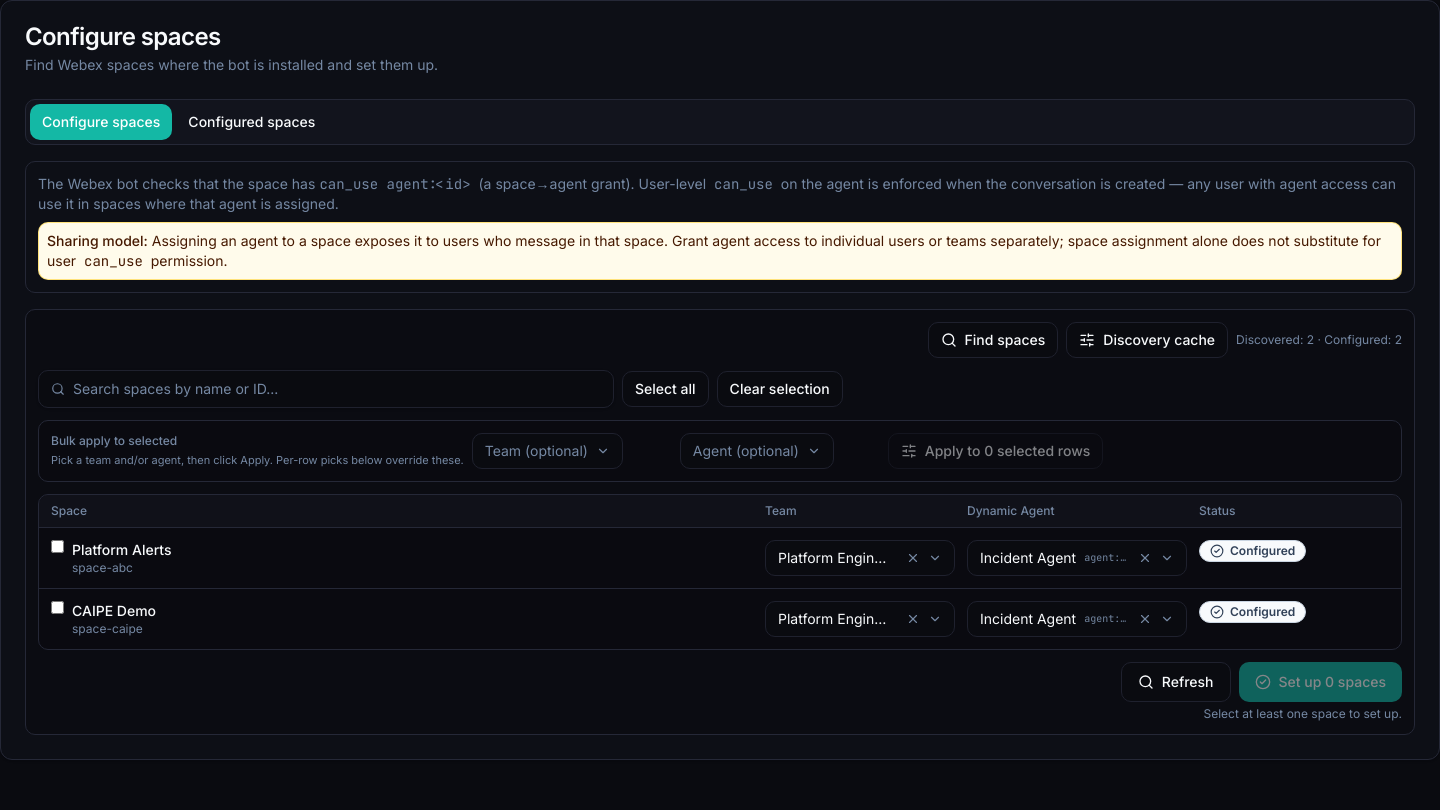
Scenario: filters configured Webex spaces locally before live discovery runs
Expected: the text "Platform Alerts" is shown, [72,541,172,558]
Expected: the text "CAIPE Demo" is shown, [72,602,156,619]
Type "CAIPE" into the search field labelled "Search spaces" at (337, 389), box [73,379,601,399]
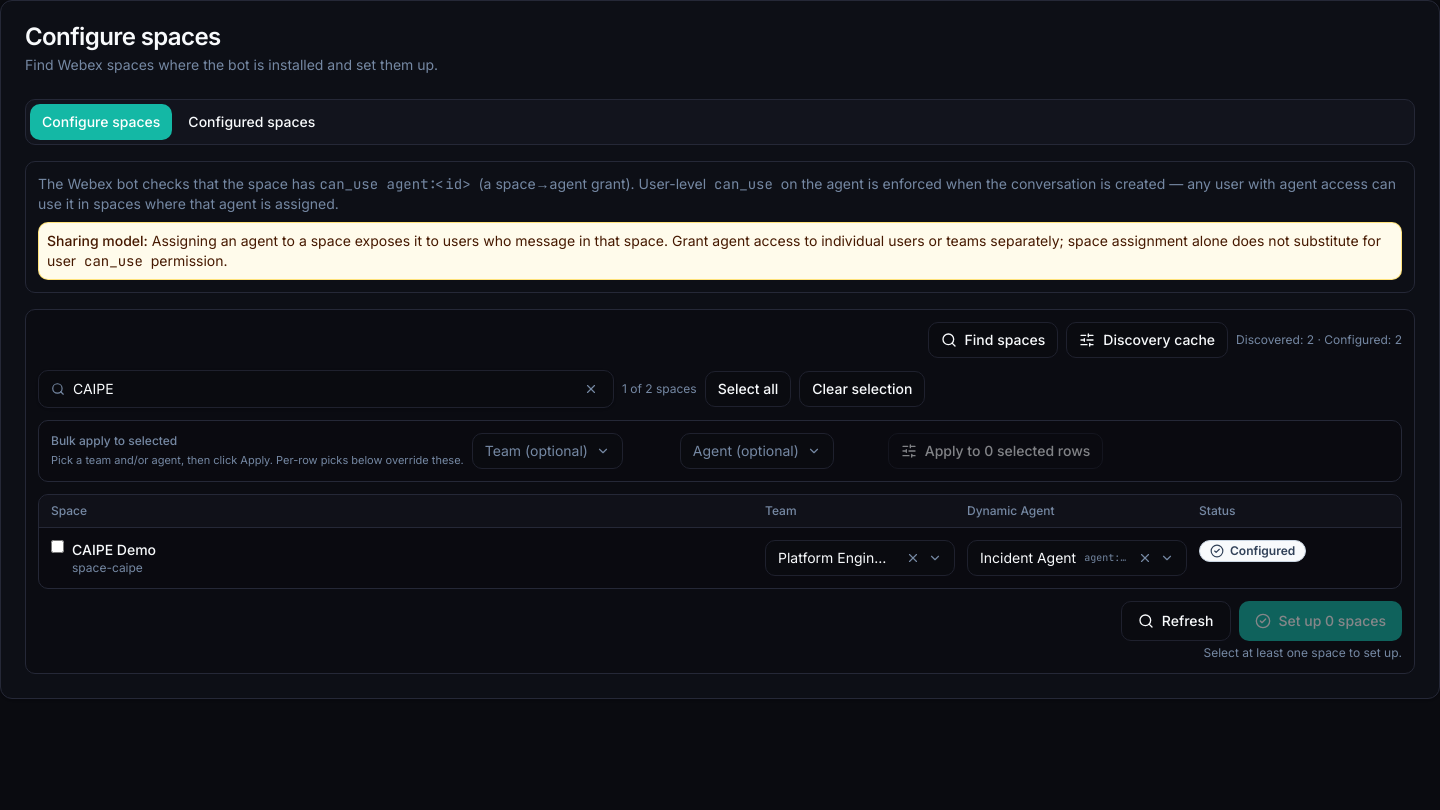
Expected: the text "CAIPE Demo" is shown, [72,541,156,558]
Expected: the text "Platform Alerts" is gone
